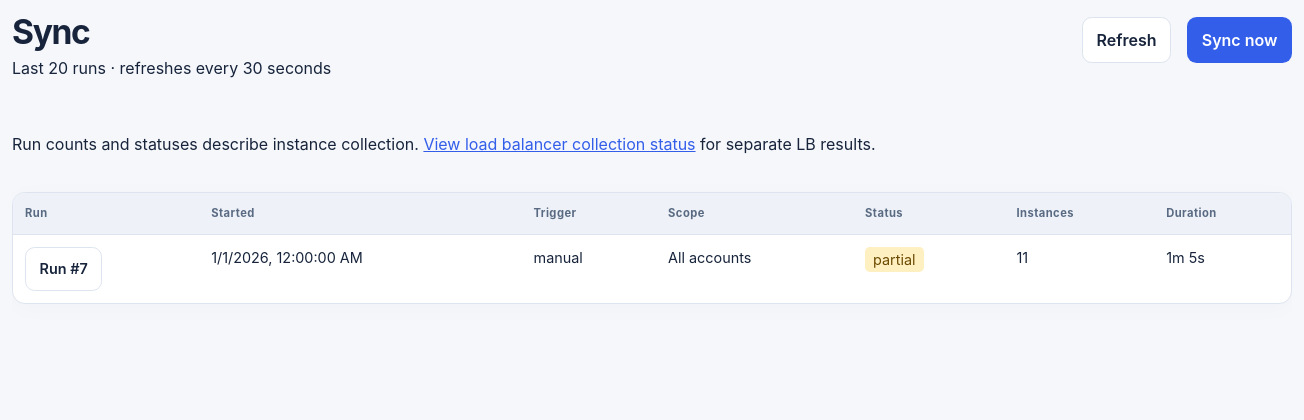
Test case: polls history and preserves cached runs on a failed refresh
Expected: the button "Run #7" is shown, [25,247,102,291]
Click the button "Refresh". click: (1127, 40)
box: [1082,17,1171,64]
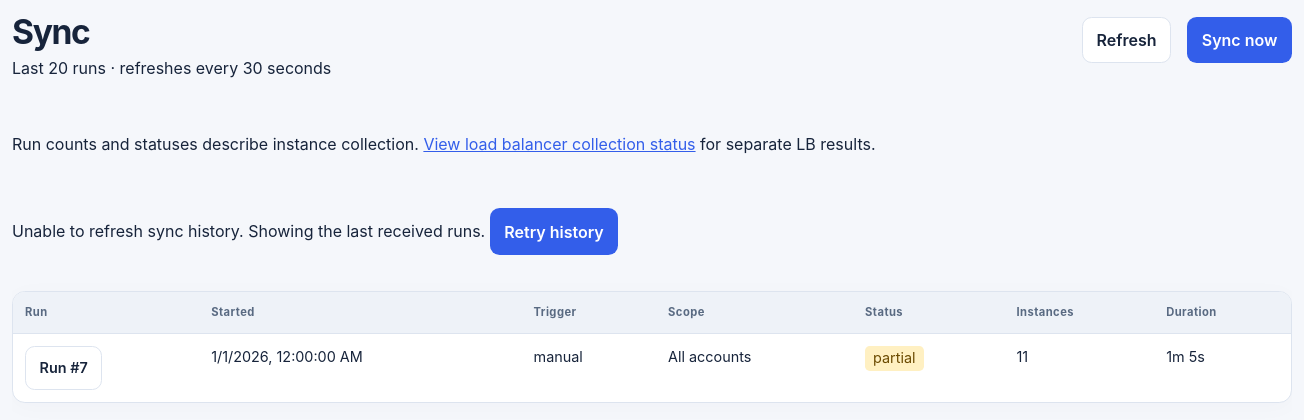
Expected: the button "Run #7" is shown, [25,346,102,390]
Now the message shows "Showing the last received runs", box [248,222,485,242]
